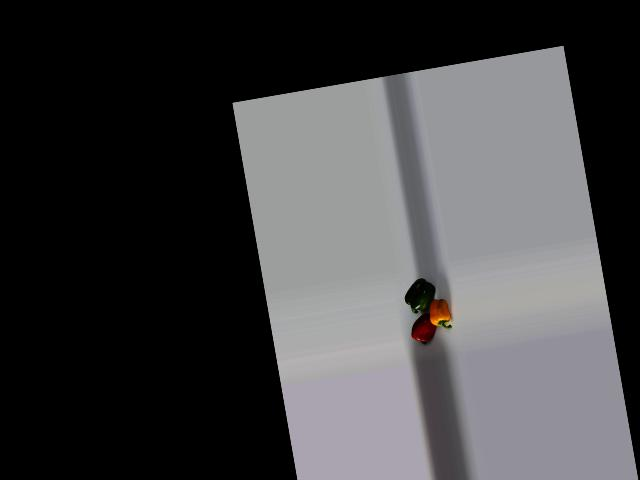bell_pepper: (422, 296, 455, 332)
